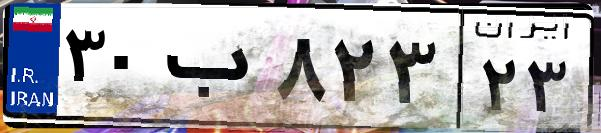0: (110, 28, 158, 98)
2: (330, 28, 385, 110), (475, 38, 525, 113)
3: (385, 28, 445, 110), (57, 26, 110, 100), (525, 38, 570, 115)
8: (270, 28, 330, 110)
ب: (158, 20, 270, 120)
